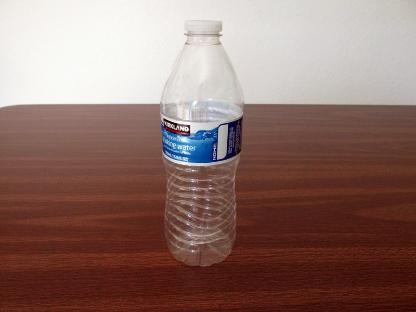Plastic Bottle: (160, 19, 244, 267)
